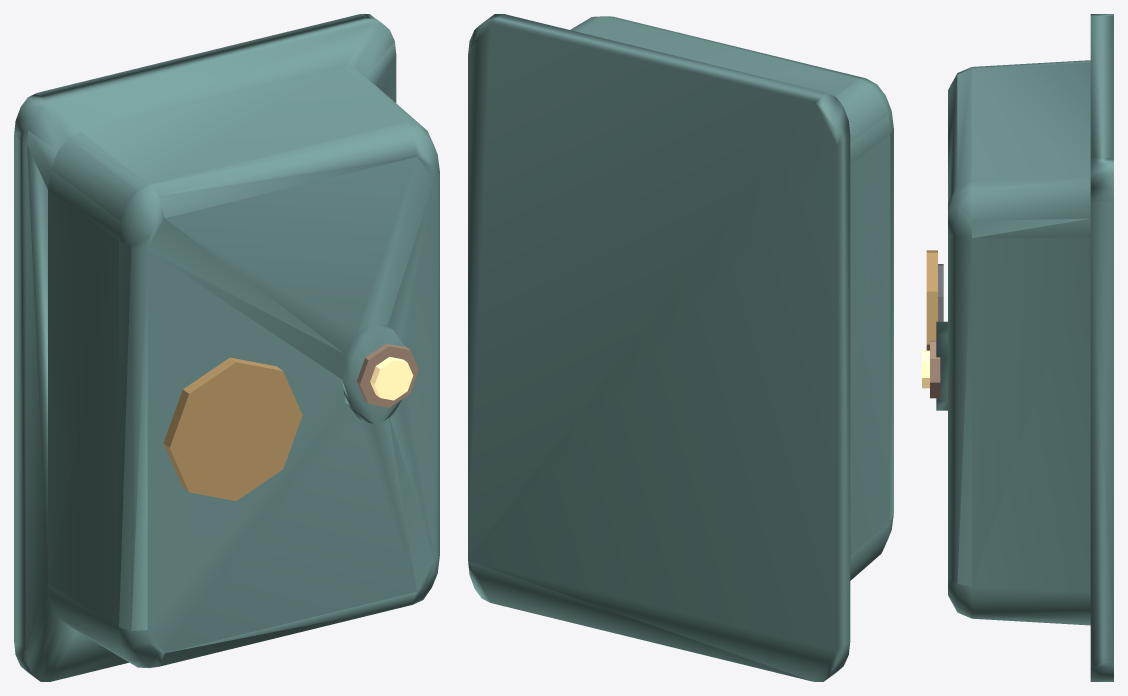
File: P14_art_repair_candidate.glb
3 renders of one model, left to right at view 1: azimuth 30°, elevation 25°; view 2: azimuth 150°, elevation 25°; view 3: azimuth 270°, elevation 25°, orthographic. The views are drawn at different scales.
Parts seen in each view (by area): view 1: P14_GeometryCandidate, P14_Socket_Rim, P14_Status_Bezel, P14_Status_Insert; view 2: P14_GeometryCandidate; view 3: P14_GeometryCandidate, P14_Socket_Rim, P14_Status_Bezel, P14_Socket_Recess, P14_Status_Insert.
Part boxes in pixels (left/top/right/bottom): P14_GeometryCandidate: left=14, top=14, right=439, bottom=681; P14_Socket_Rim: left=163, top=357, right=302, bottom=500; P14_Status_Bezel: left=356, top=343, right=418, bottom=407; P14_Status_Insert: left=370, top=357, right=413, bottom=400; P14_GeometryCandidate: left=468, top=14, right=893, bottom=681; P14_GeometryCandidate: left=936, top=14, right=1113, bottom=681; P14_Socket_Rim: left=926, top=250, right=937, bottom=350; P14_Status_Bezel: left=930, top=340, right=940, bottom=398; P14_Socket_Recess: left=938, top=264, right=943, bottom=321; P14_Status_Insert: left=922, top=350, right=929, bottom=388.
Size of the model in its own units: 2 by 3 by 1.
